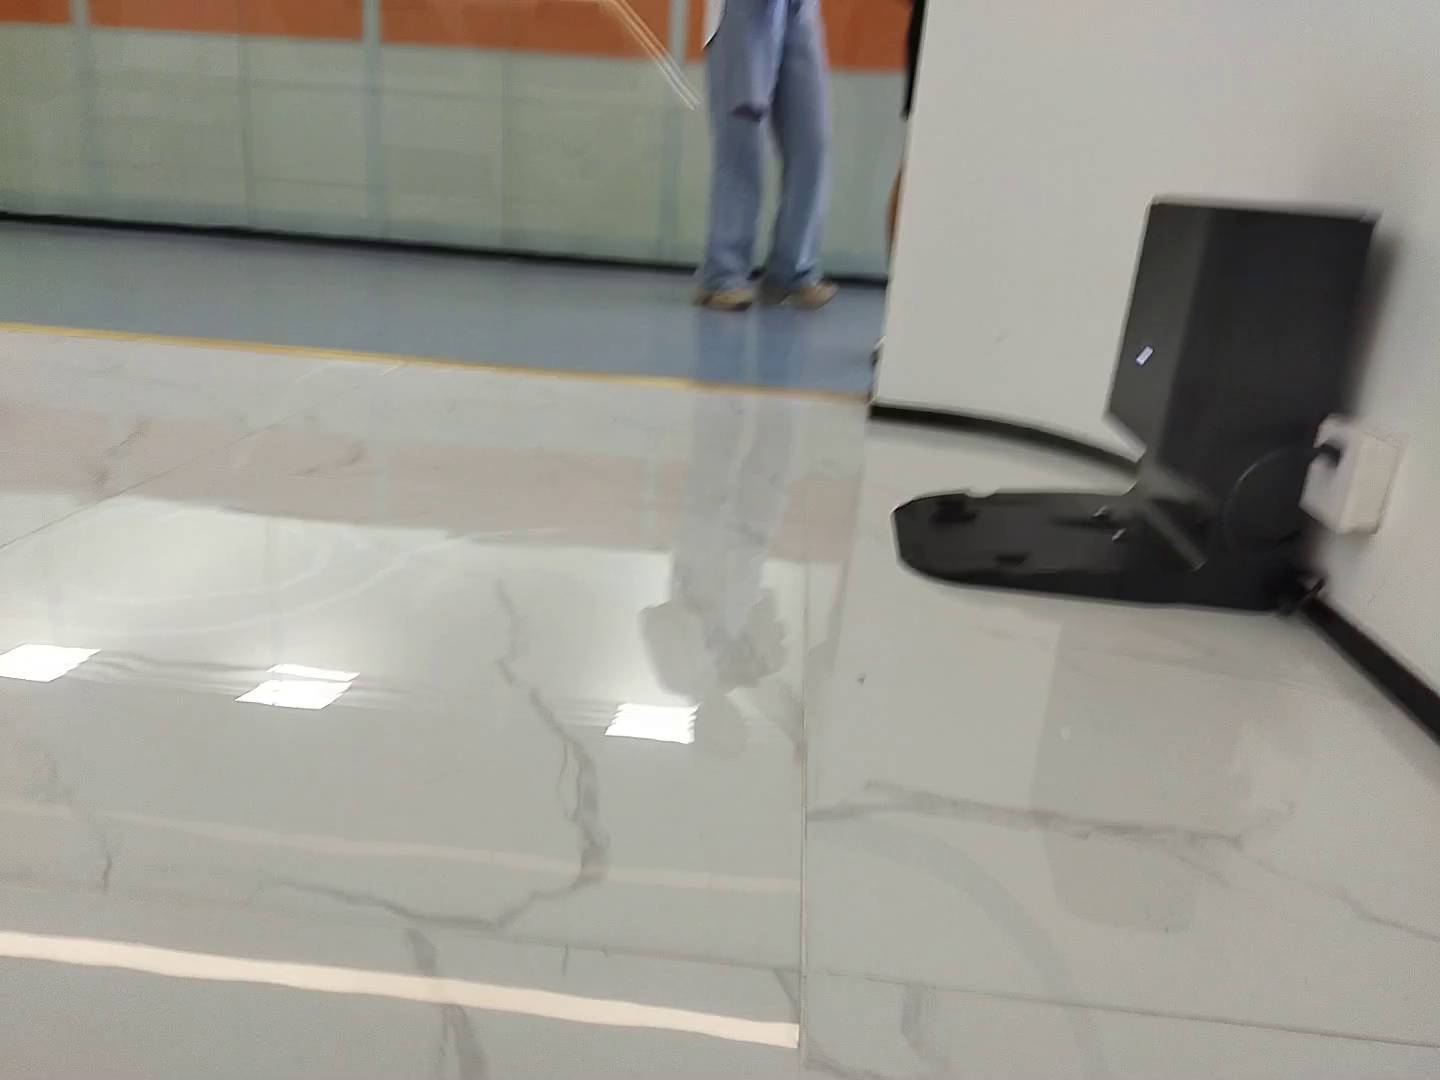dust collecting barrel: (892, 199, 1373, 613)
